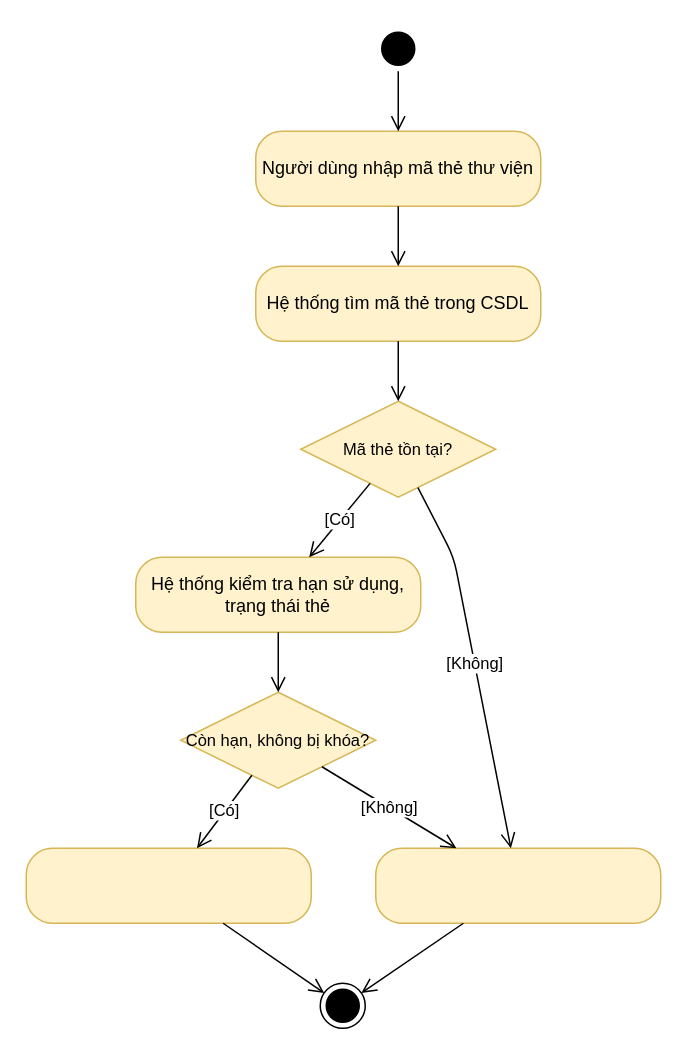
Some shapes in this 687 by 1055 pixel diagram are drawn without their labels. The centre of each missing label's shape, as x and y in pixels:
Trả kết quả “Hợp lệ”: (x=168, y=885)
Trả kết quả “Không hợp lệ”: (x=517, y=885)
